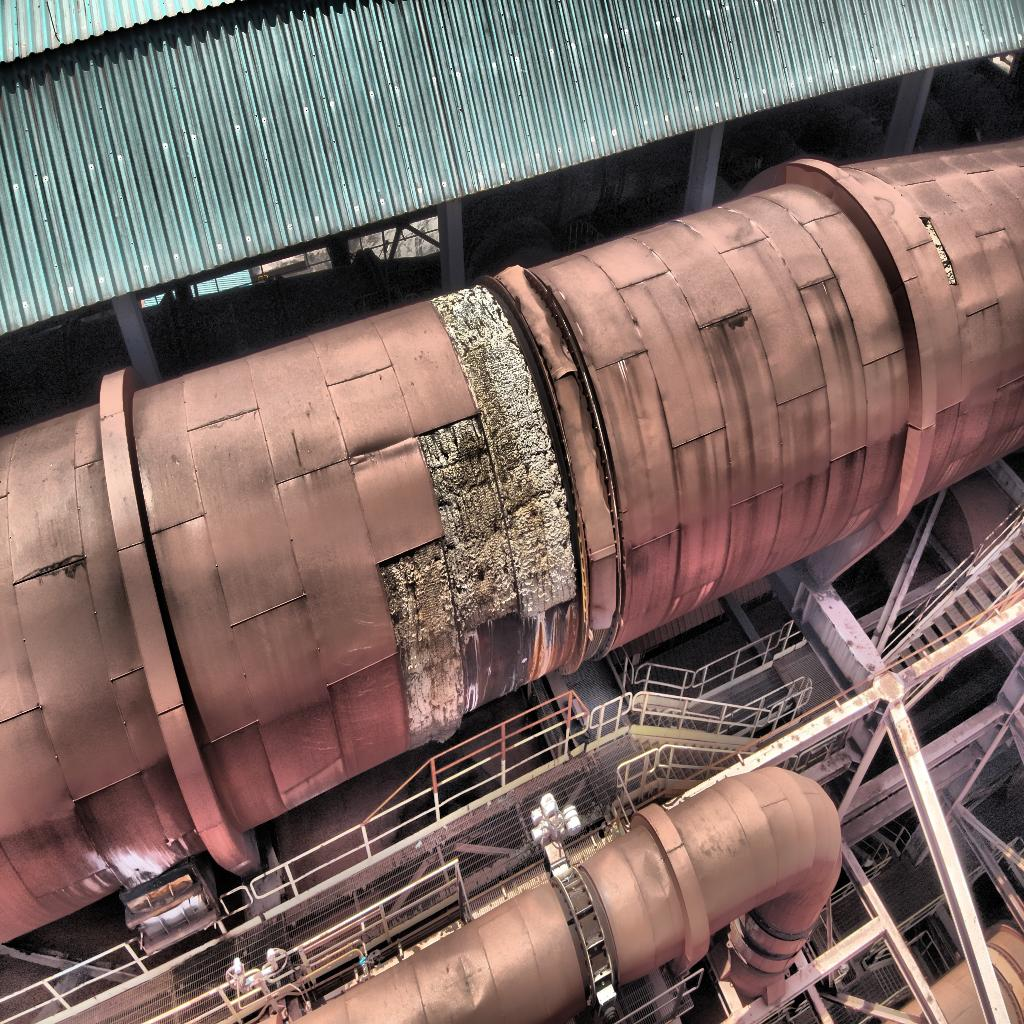Failures: (374, 287, 587, 752), (920, 211, 958, 286)
